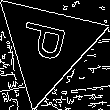P_E: (19, 21, 76, 69)
